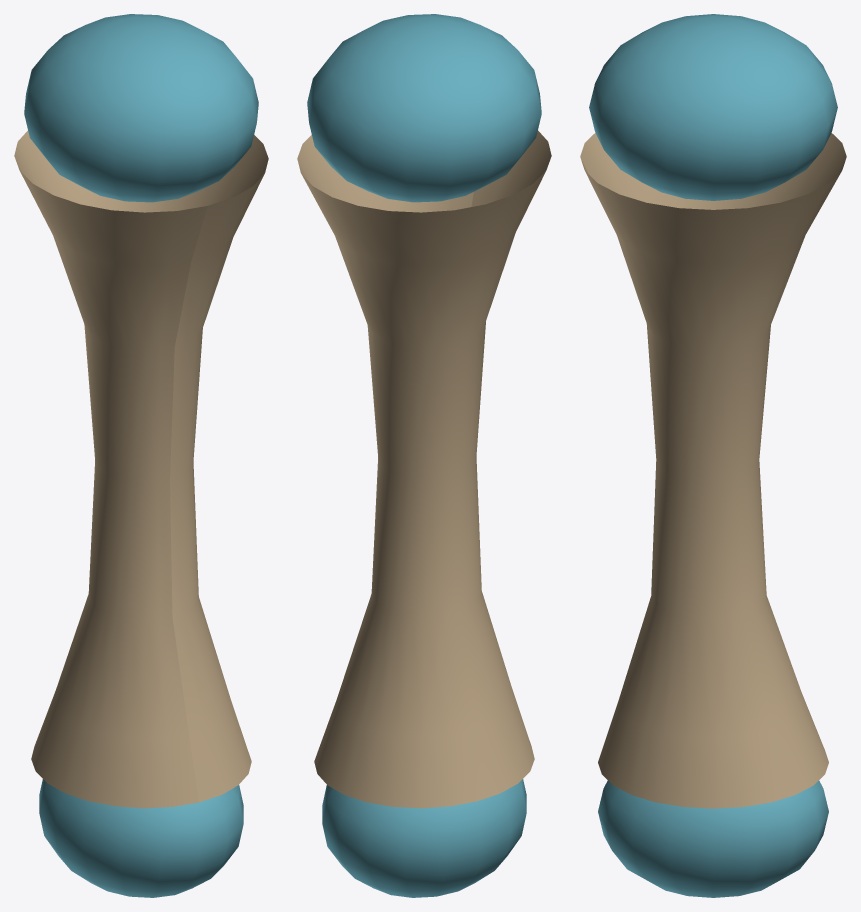
File: right_metacarpal_1.glb
3 views of the same model, side by side, from view 1: azimuth 30°, elevation 25°; view 2: azimuth 150°, elevation 25°; view 3: azimuth 270°, elevation 25° (orthographic).
Parts seen in each view (by area): view 1: right_metacarpal_1:diaphysis, right_metacarpal_1:proximal-envelope, right_metacarpal_1:distal-envelope; view 2: right_metacarpal_1:diaphysis, right_metacarpal_1:proximal-envelope, right_metacarpal_1:distal-envelope; view 3: right_metacarpal_1:diaphysis, right_metacarpal_1:proximal-envelope, right_metacarpal_1:distal-envelope.
Part boxes in pixels (left/top/right/bottom): right_metacarpal_1:diaphysis: left=14, top=130, right=268, bottom=808; right_metacarpal_1:proximal-envelope: left=24, top=14, right=258, bottom=202; right_metacarpal_1:distal-envelope: left=39, top=779, right=243, bottom=897; right_metacarpal_1:diaphysis: left=297, top=130, right=551, bottom=808; right_metacarpal_1:proximal-envelope: left=307, top=14, right=541, bottom=202; right_metacarpal_1:distal-envelope: left=322, top=779, right=526, bottom=897; right_metacarpal_1:diaphysis: left=580, top=133, right=846, bottom=808; right_metacarpal_1:proximal-envelope: left=589, top=14, right=837, bottom=200; right_metacarpal_1:distal-envelope: left=598, top=780, right=828, bottom=897.
Bounding box in the file's own units: 0.0408 × 0.1536 × 0.0432.
